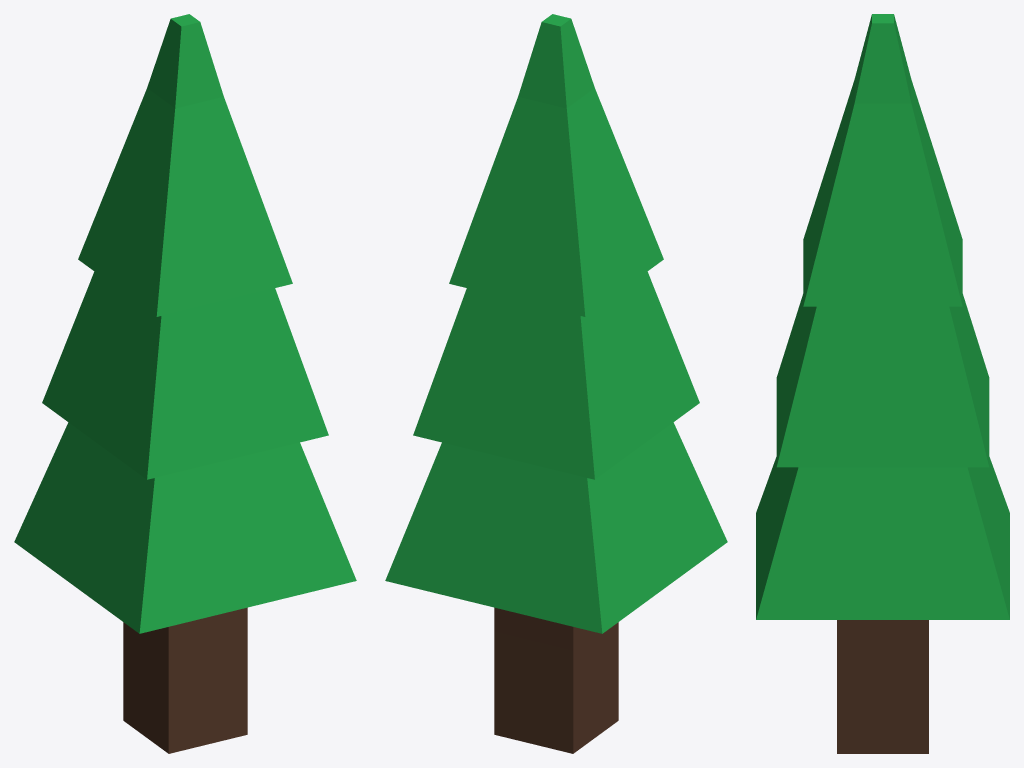
Rendered from Tree.obj.
3 renders of one model, left to right at view 1: azimuth 30°, elevation 25°; view 2: azimuth 150°, elevation 25°; view 3: azimuth 270°, elevation 25°, orthographic.
Parts seen in each view (by area): view 1: Cube.001_Cube.002; view 2: Cube.001_Cube.002; view 3: Cube.001_Cube.002.
Boxes of the visible parts, x1,y1,x2,y2 form: Cube.001_Cube.002: [14, 14, 356, 753]; Cube.001_Cube.002: [385, 14, 727, 753]; Cube.001_Cube.002: [756, 14, 1009, 753].
Size of the model in its own units: 1.41 by 4.38 by 1.41.
Materials: 1 (1 with a texture image).
